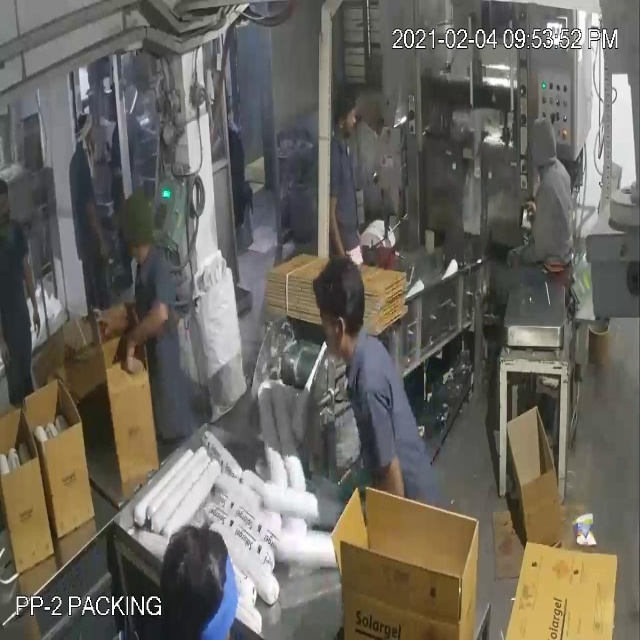Sin_guantes: (111, 298, 172, 382), (17, 234, 50, 349), (80, 193, 117, 276), (319, 182, 343, 274)
